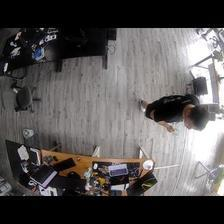normal: (137, 95, 209, 134)
